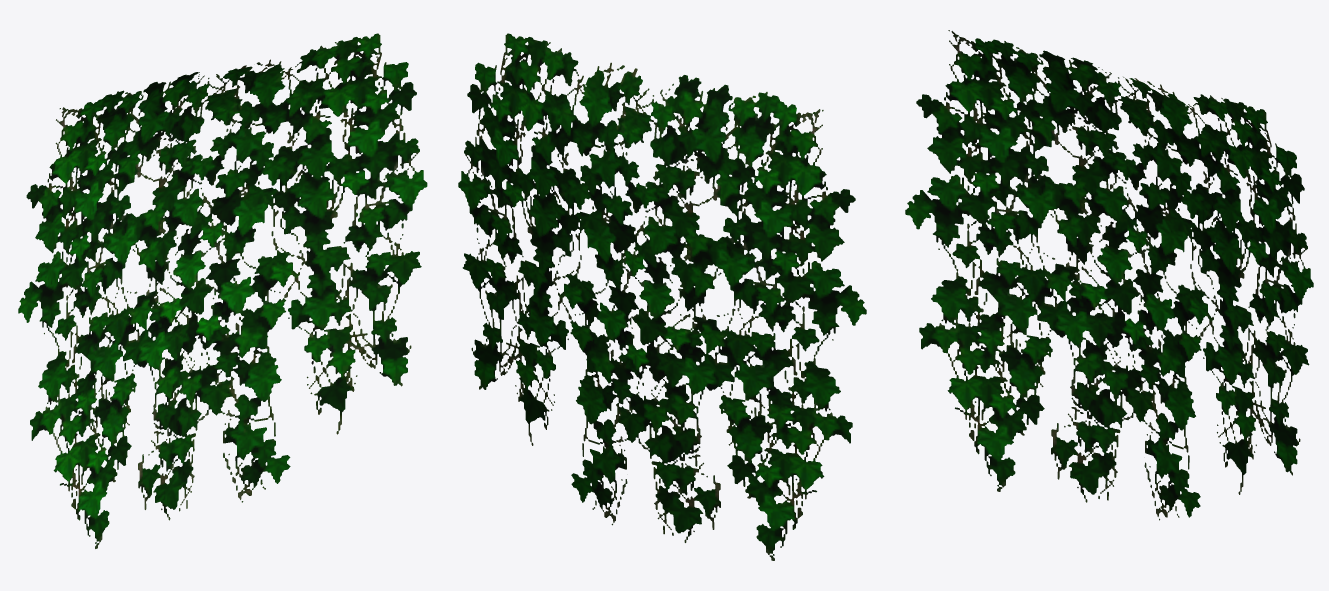
File: INST_HTOWN_IVY.fbx
The picture shows the model from 3 angles, left to right: view 1: azimuth 30°, elevation 25°; view 2: azimuth 150°, elevation 25°; view 3: azimuth 330°, elevation 25°; orthographic projection.
Parts seen in each view (by area): view 1: INST_HTOWN_IVY; view 2: INST_HTOWN_IVY; view 3: INST_HTOWN_IVY.
Boxes of the visible parts, box(x1,y1,x2,y2) form: INST_HTOWN_IVY: box(18, 33, 427, 548); INST_HTOWN_IVY: box(458, 33, 866, 560); INST_HTOWN_IVY: box(905, 30, 1313, 520).
Bounding box in the file's own units: 28200 × 30000 × 2488.
1 material, 1 textured.
